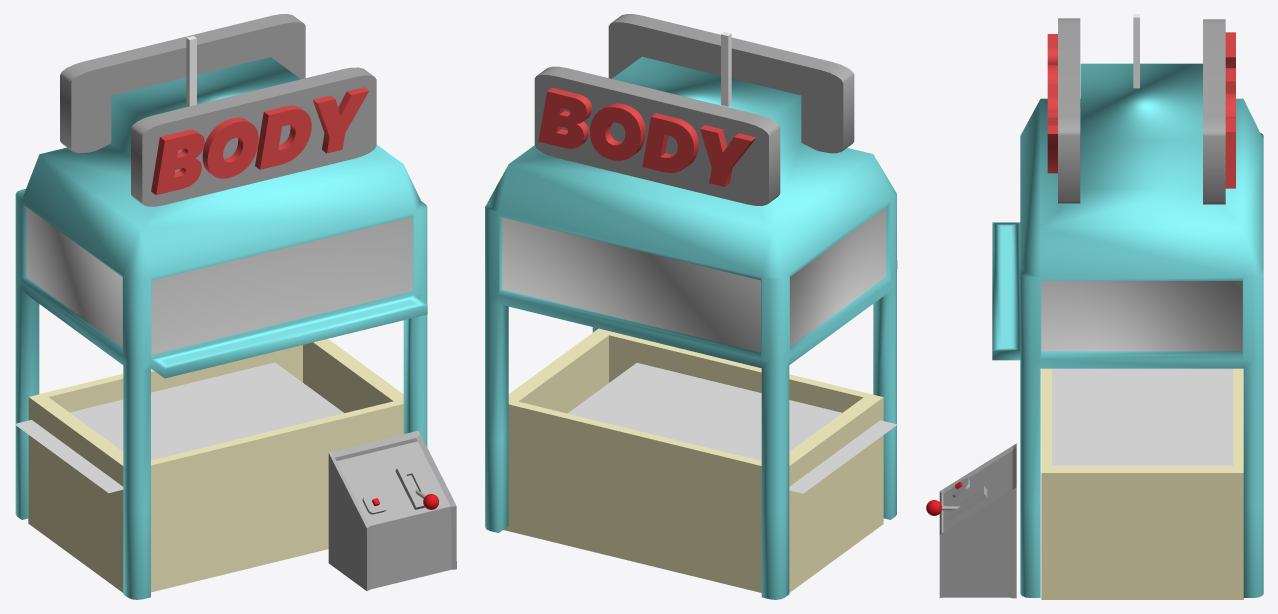
File: ST_Rangka v2.fbx
The picture shows the model from 3 angles, left to right: view 1: azimuth 30°, elevation 25°; view 2: azimuth 150°, elevation 25°; view 3: azimuth 270°, elevation 25°; orthographic projection.
Visible parts, largest first — view 1: Frame.001, PaintCauldron.002, Button, PaintWater, Nameboard, Nameboard.001, Text, HolderFrame; view 2: Frame.001, PaintCauldron.002, PaintWater, Nameboard.001, Nameboard, Text.002, HolderFrame; view 3: Frame.001, PaintCauldron.002, PaintWater, Button, Nameboard, Nameboard.001, Text.002, Text, HolderFrame.
Part boxes in pixels (box(x1,y1,x2,y2)): Frame.001: box(15, 57, 427, 599); PaintCauldron.002: box(28, 339, 403, 592); Button: box(328, 430, 456, 590); PaintWater: box(14, 362, 344, 493); Nameboard: box(131, 67, 376, 206); Nameboard.001: box(60, 14, 305, 153); Text: box(151, 87, 368, 194); HolderFrame: box(186, 36, 196, 107); Frame.001: box(485, 56, 897, 599); PaintCauldron.002: box(503, 328, 883, 592); PaintWater: box(567, 363, 897, 493); Nameboard.001: box(534, 66, 780, 205); Nameboard: box(608, 14, 854, 153); Text.002: box(538, 87, 756, 186); HolderFrame: box(721, 32, 731, 106); Frame.001: box(992, 63, 1263, 597); PaintCauldron.002: box(1041, 368, 1243, 599); PaintWater: box(1052, 368, 1233, 465); Button: box(939, 443, 1016, 598); Nameboard: box(1058, 18, 1080, 203); Nameboard.001: box(1203, 19, 1225, 204); Text.002: box(1225, 32, 1235, 188); Text: box(1047, 34, 1057, 173); HolderFrame: box(1133, 14, 1139, 88).
Size of the model in its own units: 139 by 216 by 132.
